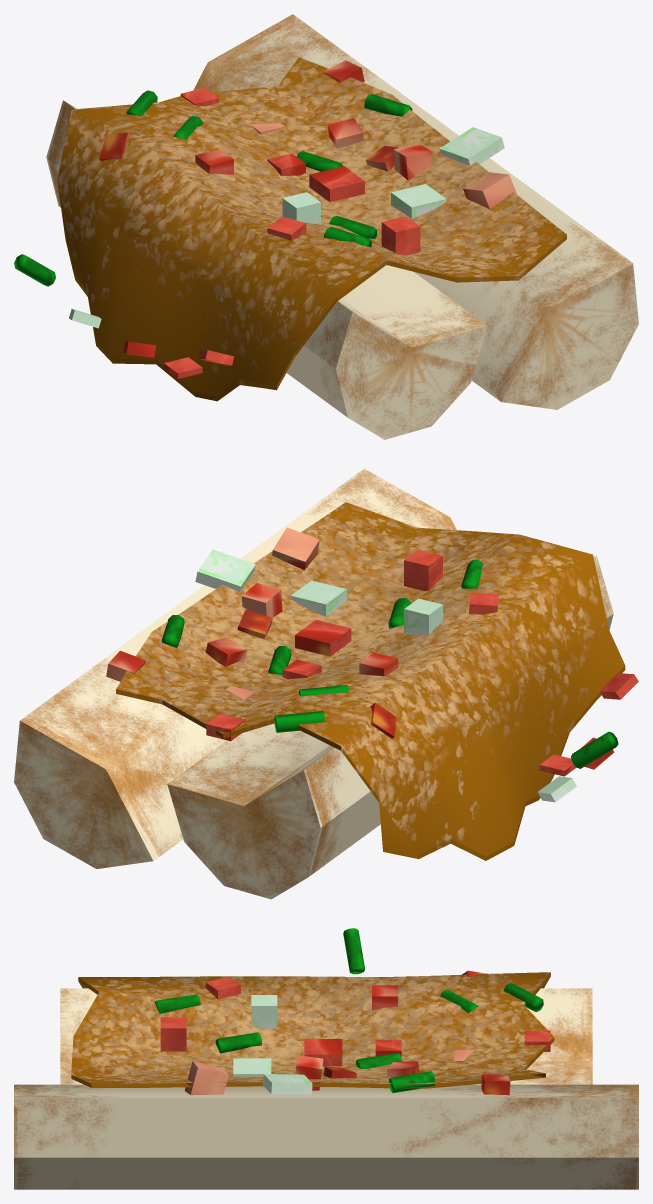
File: yuca1C.glb
3 views of the same model, one above another, from view 1: azimuth 30°, elevation 25°; view 2: azimuth 150°, elevation 25°; view 3: azimuth 270°, elevation 25° (orthographic). The views are drawn at different scales.
Visible parts, largest first — view 1: Plato2; view 2: Plato2; view 3: Plato2.
Part boxes in pixels (x1,y1,x2,y2): Plato2: (14,14,638,439); Plato2: (14,468,638,899); Plato2: (14,928,638,1189).
Bounding box in the file's own units: 1.39 × 0.5286 × 1.84.
5 materials, 5 textured.
